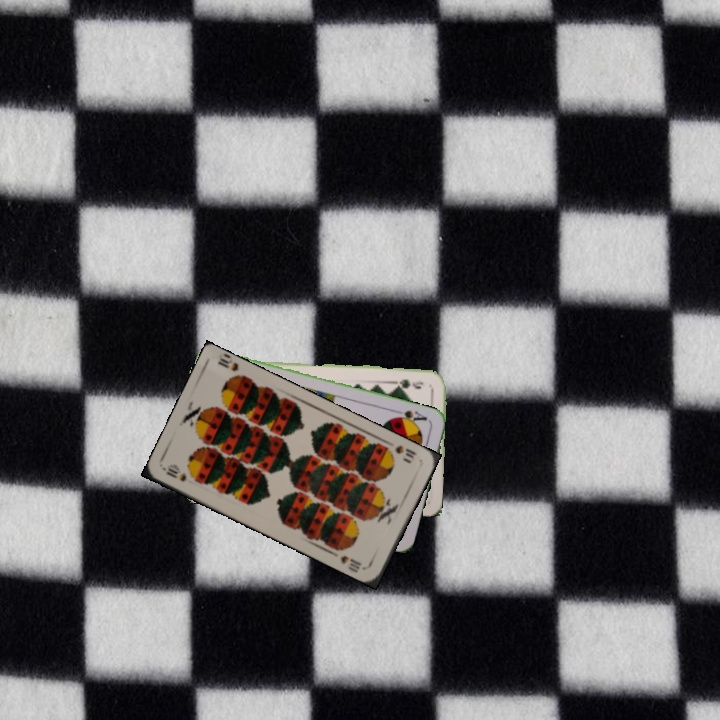G9: (393, 375, 426, 390)
S10: (382, 441, 418, 461), (162, 462, 189, 484)
SA: (390, 406, 430, 427)
